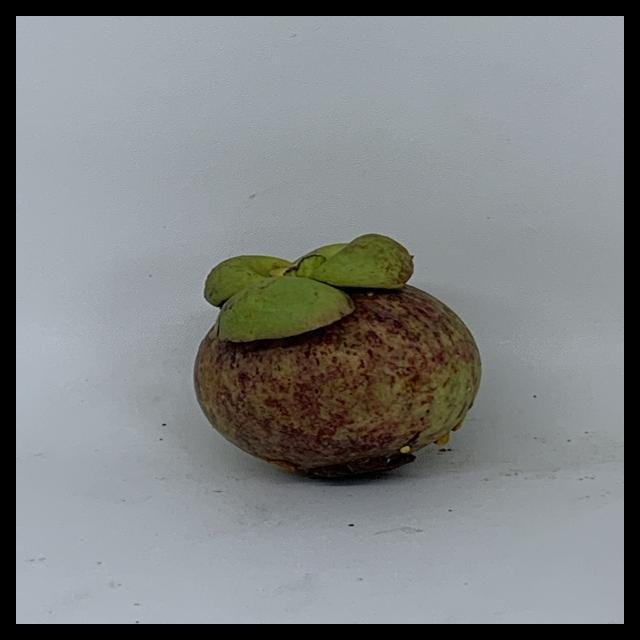mangosteen: (187, 225, 495, 481)
